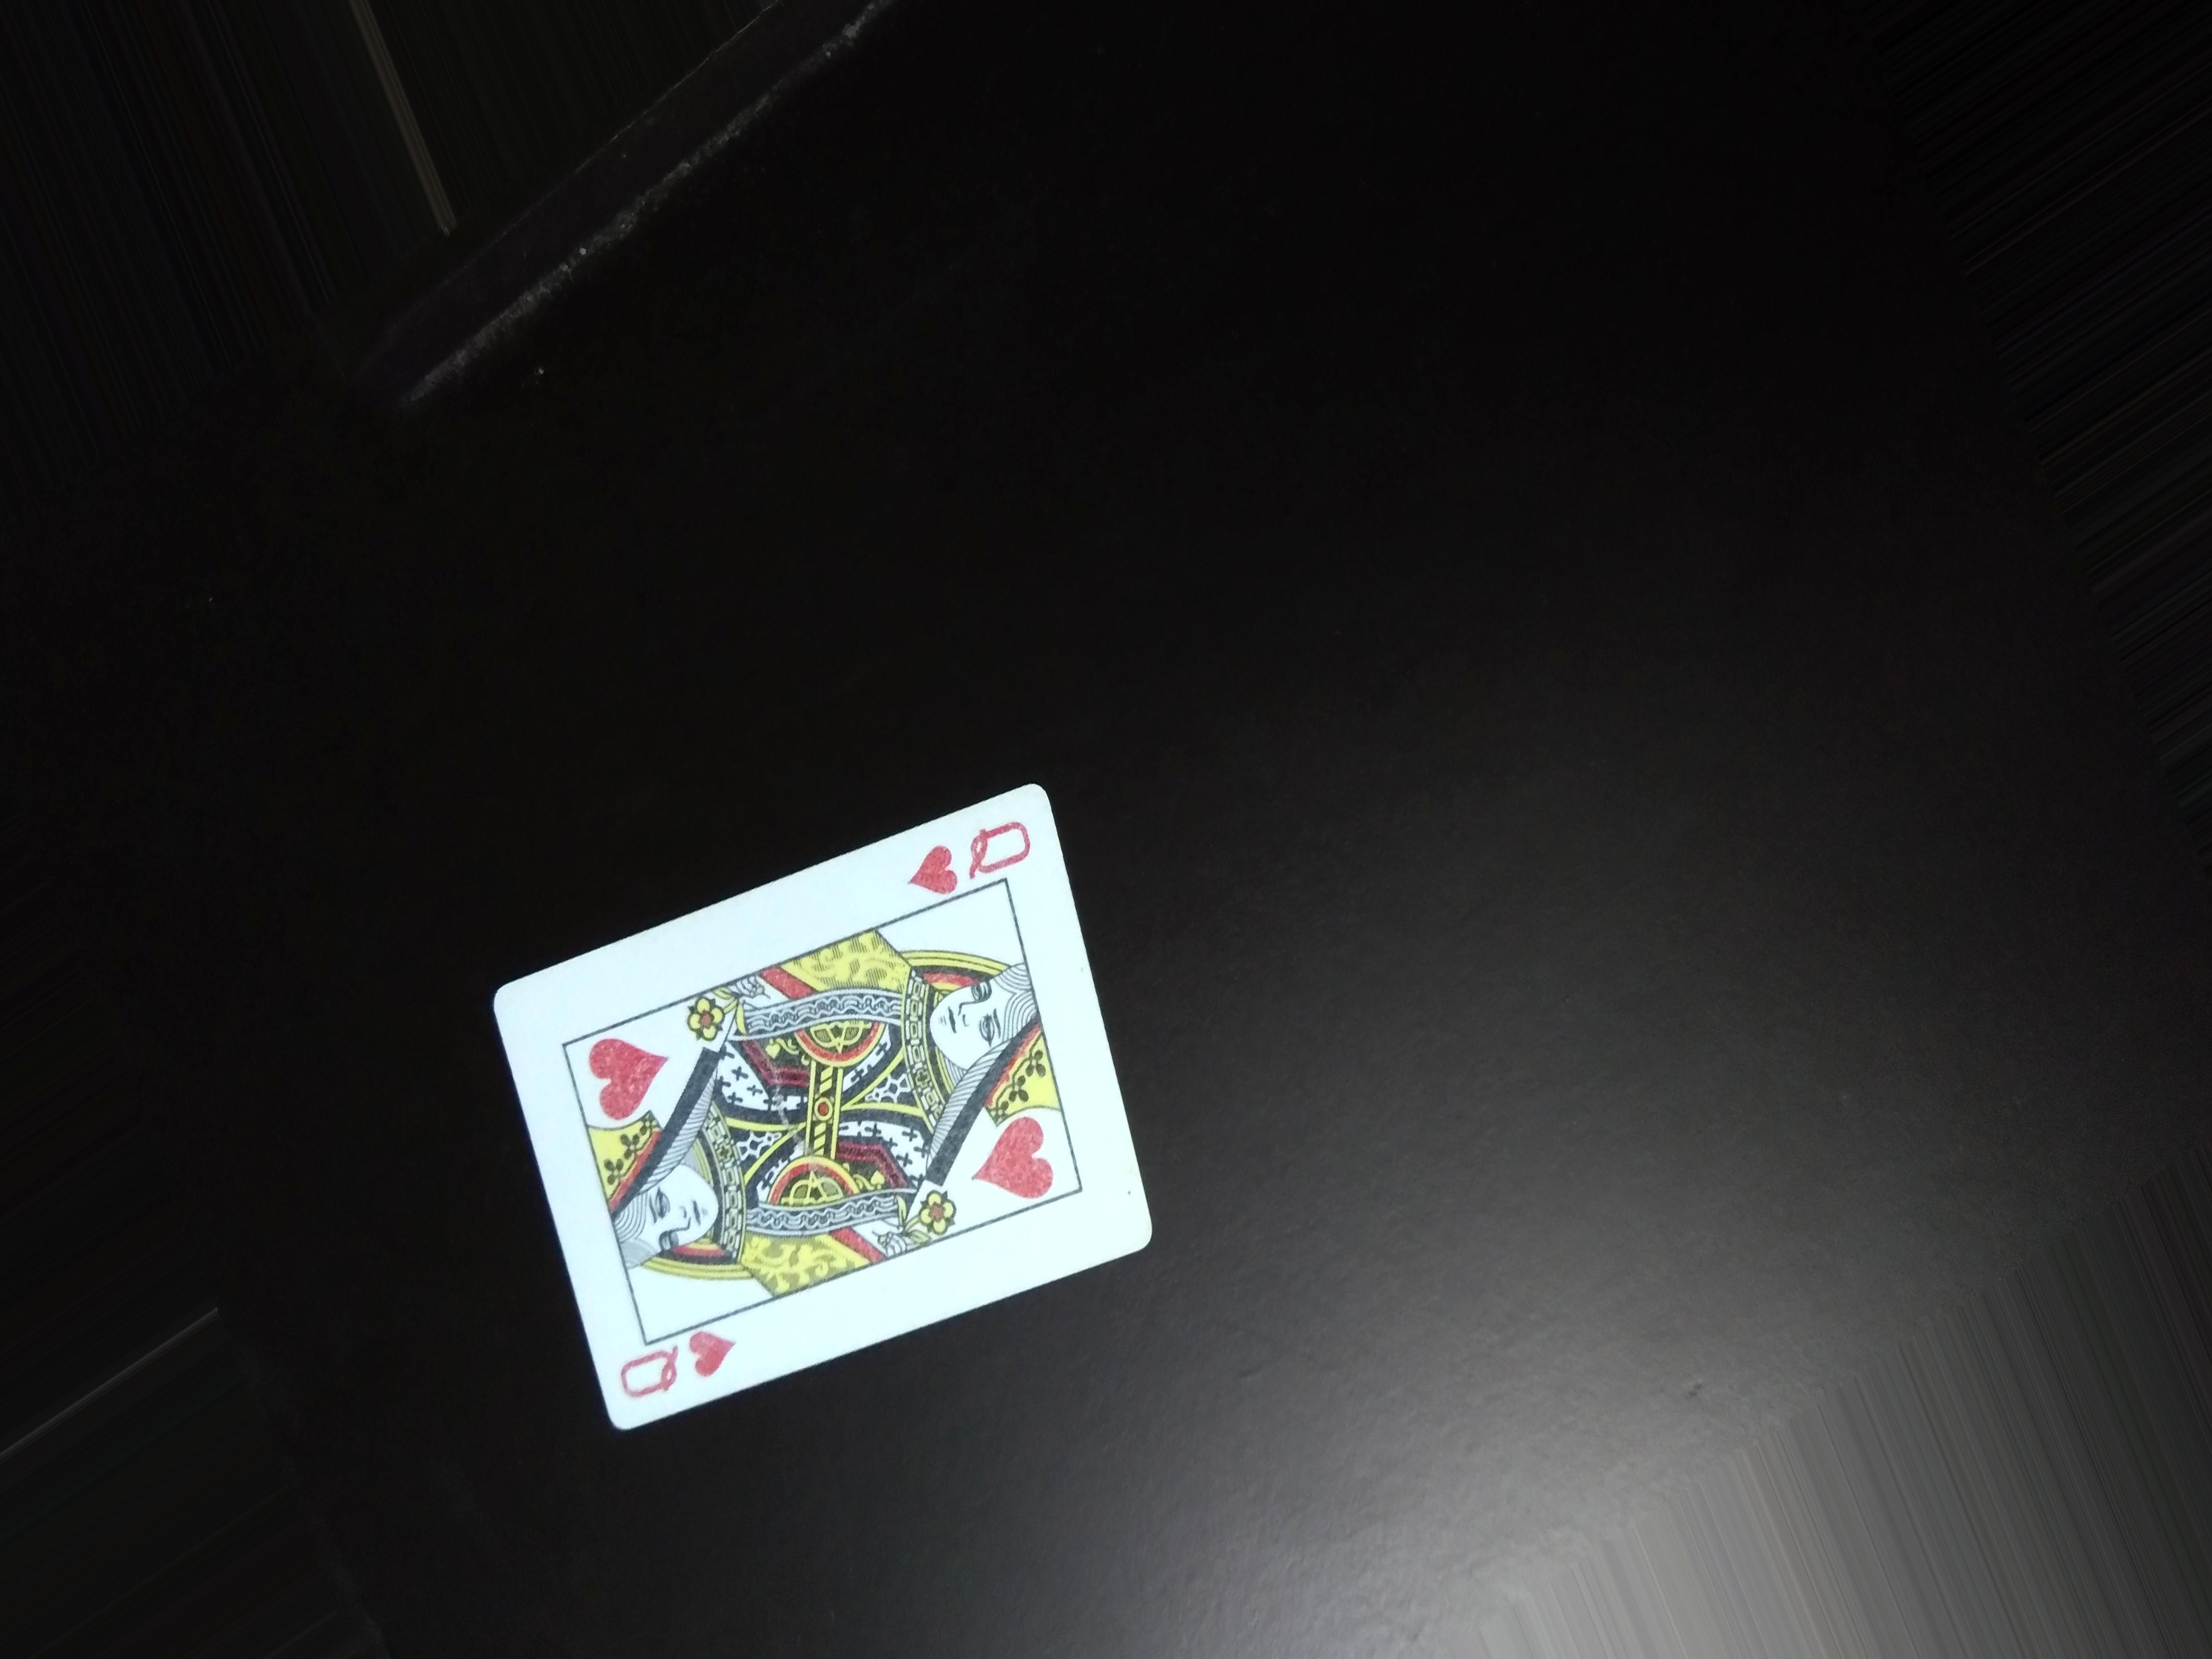QH: (887, 816, 1054, 892)
